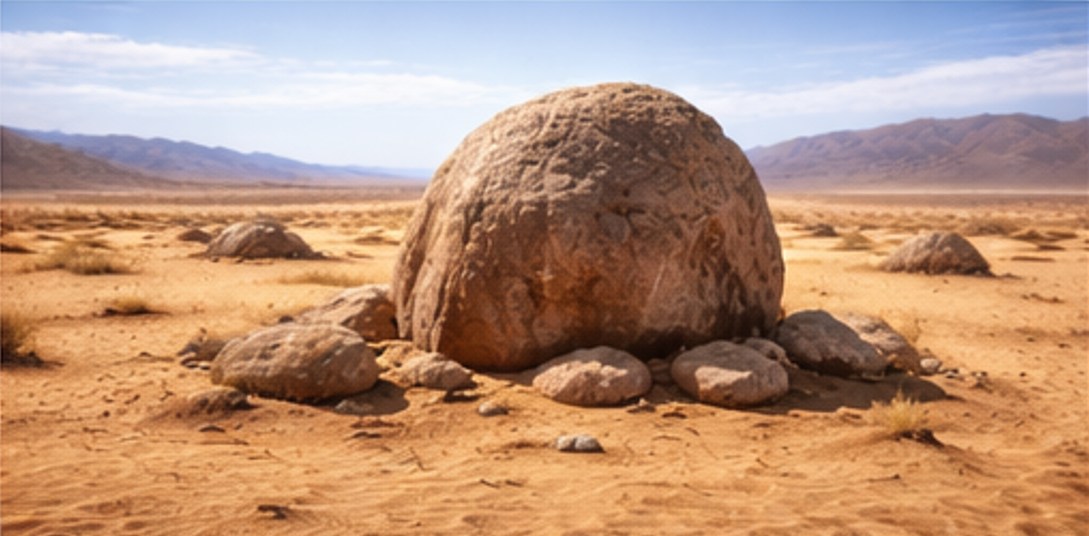rocks: (391, 82, 782, 370), (211, 322, 378, 398), (672, 340, 788, 407), (774, 310, 883, 375), (531, 347, 651, 405), (293, 283, 396, 340), (837, 313, 919, 372), (883, 232, 991, 275), (205, 220, 319, 255), (396, 352, 472, 389), (554, 433, 603, 451)
